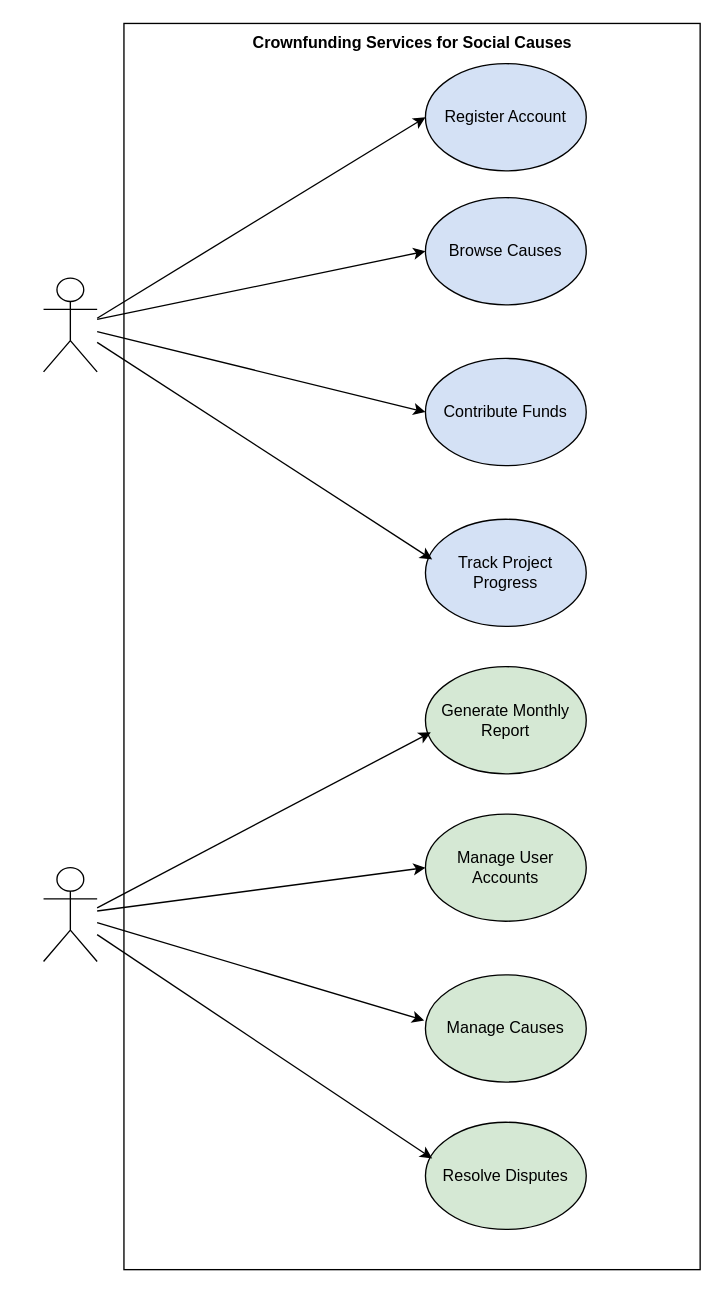
The diagram is 724 pixels wide and 1293 high, and some of its shapes have lost their labels. Each missing label, with the box of its shape:
Administrator: (42, 866, 97, 961)
User: (42, 277, 97, 372)
